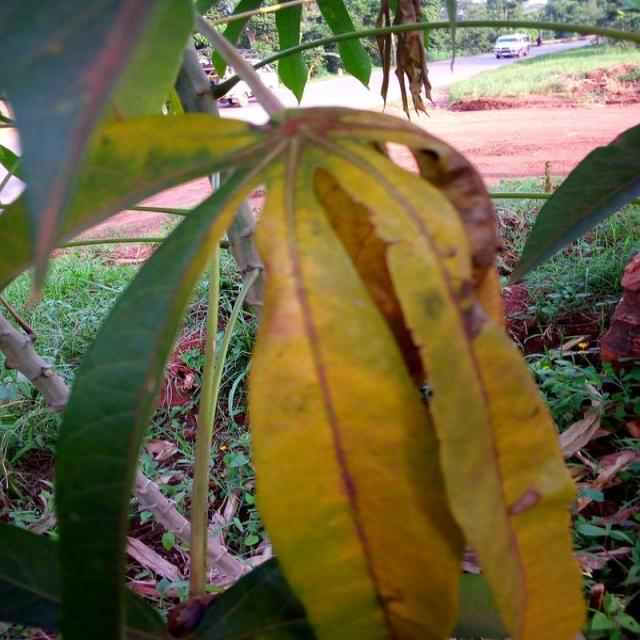cassava leaf: (43, 102, 588, 638)
